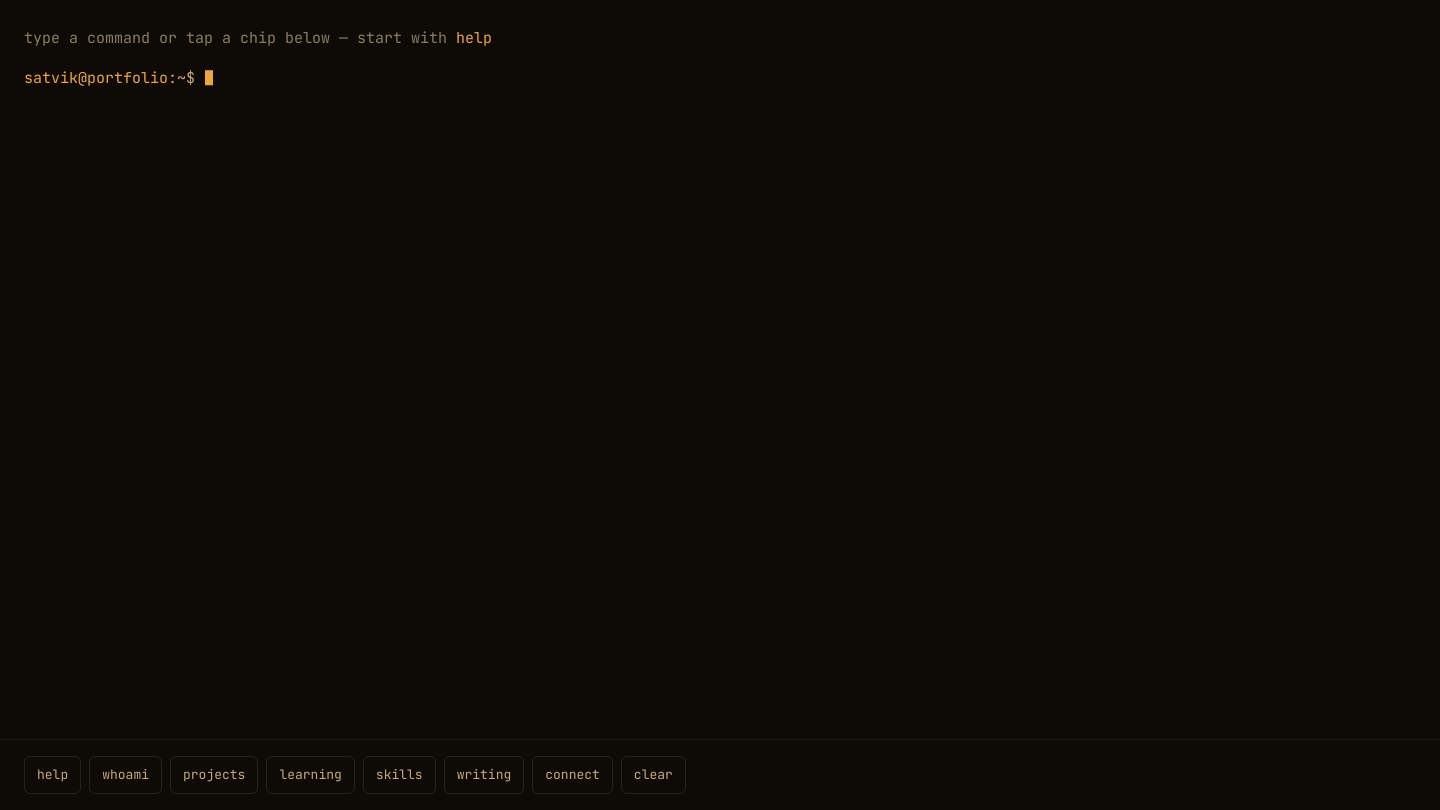
Test case: Shell › runs a typed command and shows its output
Type "whoami" into the field at (810, 78), box [203,64,1416,92]
Then press Enter
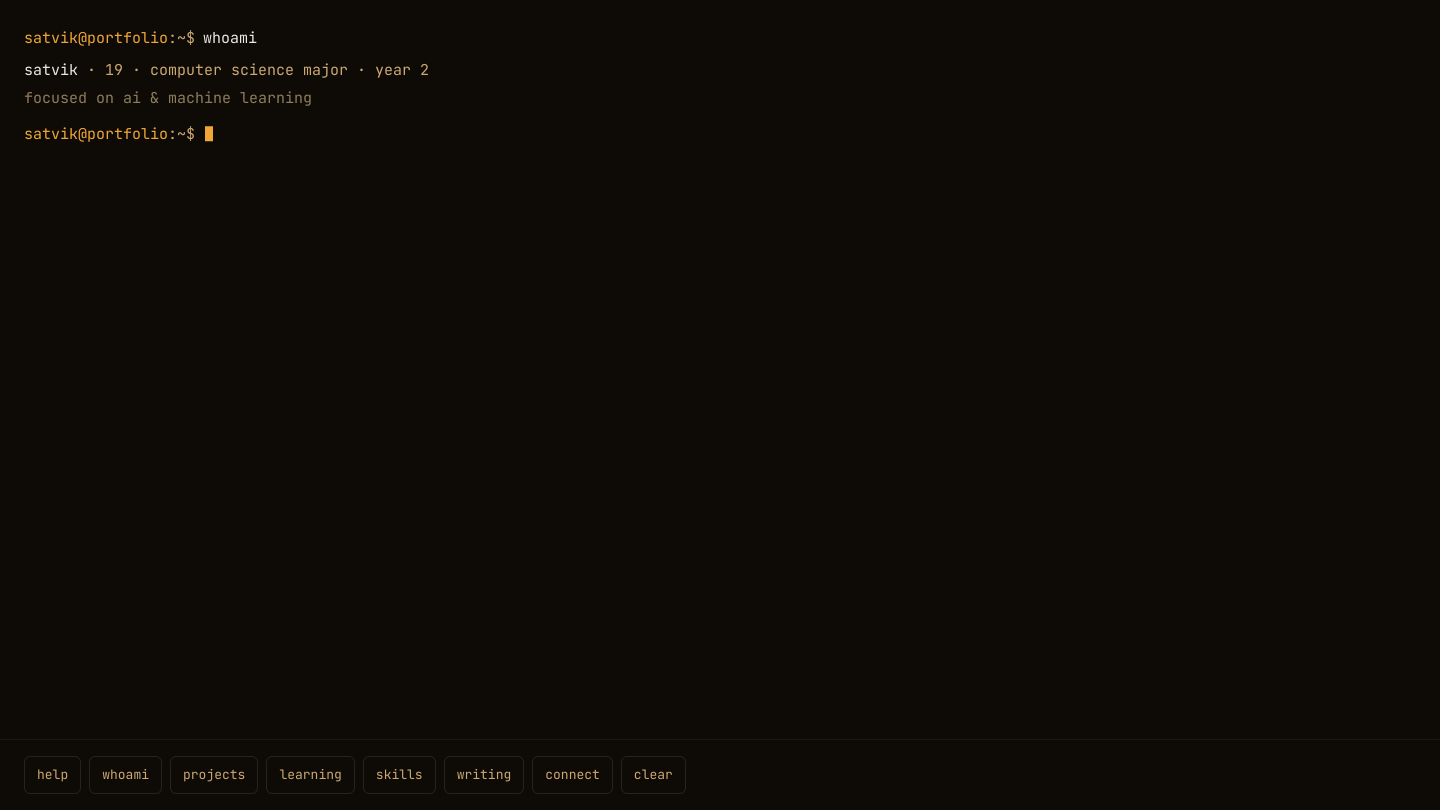
Expected: the text "focused on ai & machine learning" is shown, [24,88,312,108]
